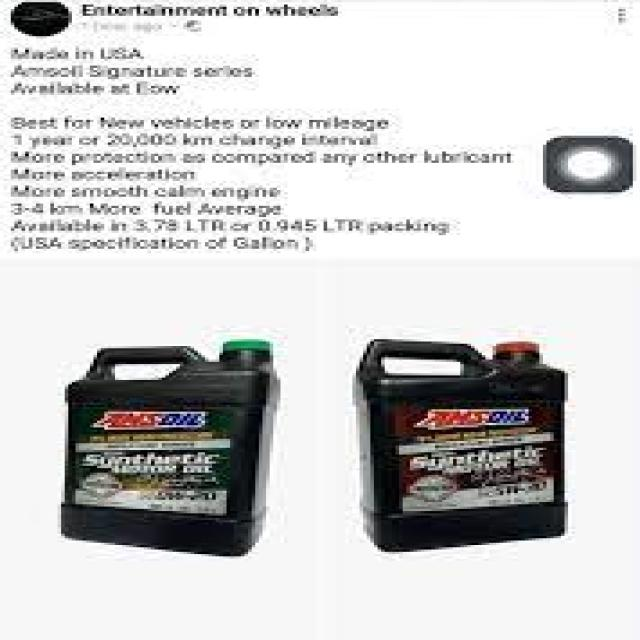motor_oil: (61, 332, 286, 564), (353, 329, 586, 553)
